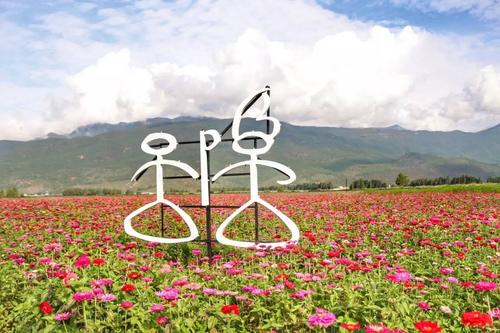naxi: (111, 93, 304, 249)
